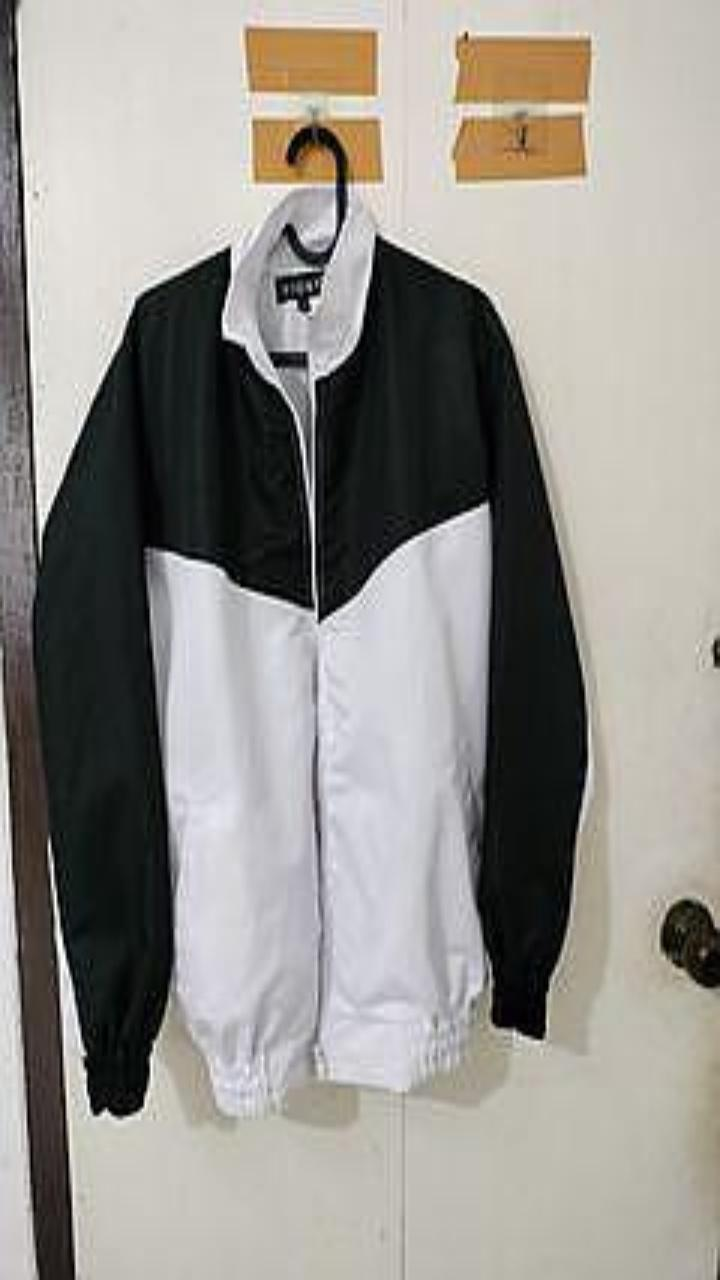Sports_Jacket: (33, 184, 591, 1115)
